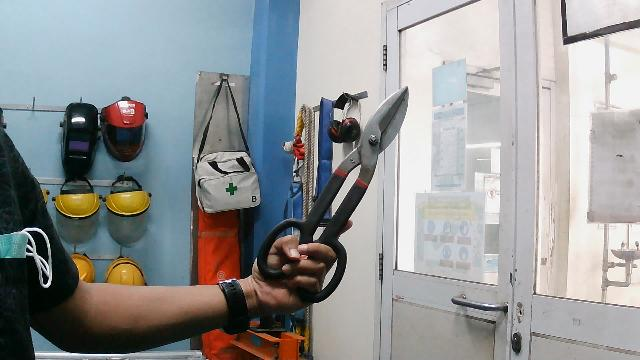gunting_plat: (243, 71, 441, 316)
